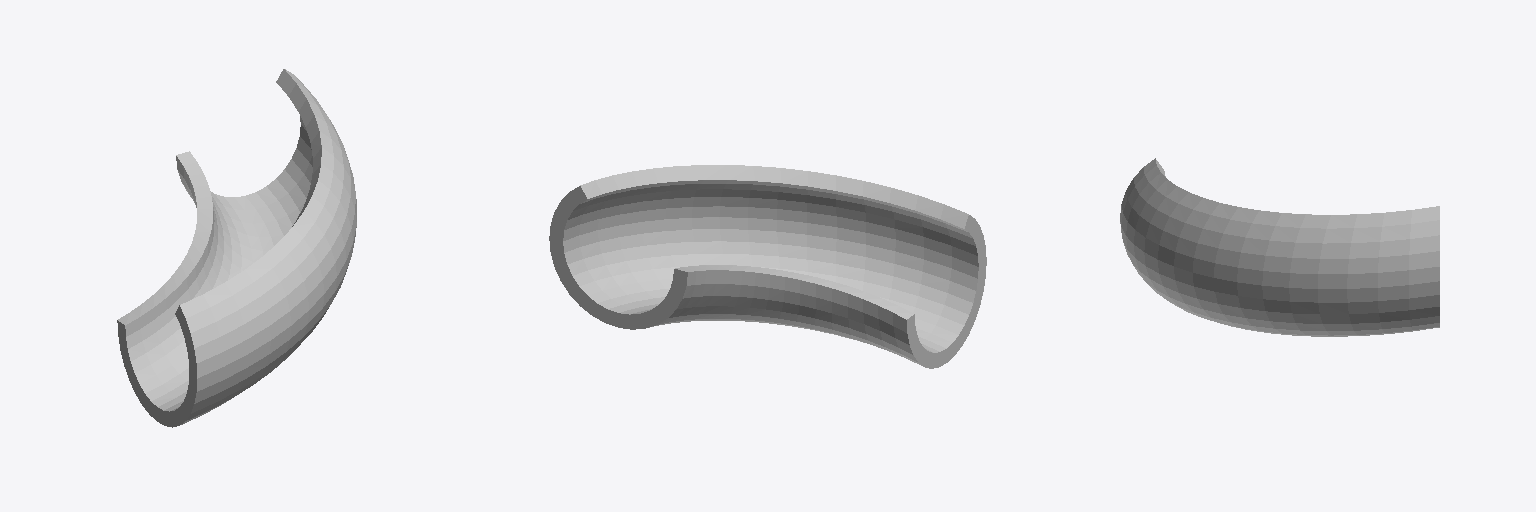
Rendered from turn_right2.obj.
The picture shows the model from 3 angles: view 1: azimuth 30°, elevation 25°; view 2: azimuth 150°, elevation 25°; view 3: azimuth 270°, elevation 25°; orthographic projection.
Visible parts, largest first — view 1: TurnRight2_Circle.008; view 2: TurnRight2_Circle.008; view 3: TurnRight2_Circle.008.
Boxes of the visible parts, x1,y1,x2,y2 form: TurnRight2_Circle.008: [117, 69, 356, 427]; TurnRight2_Circle.008: [549, 165, 986, 368]; TurnRight2_Circle.008: [1120, 158, 1439, 336].
Bounding box in the file's own units: 4 × 2.83 × 4.